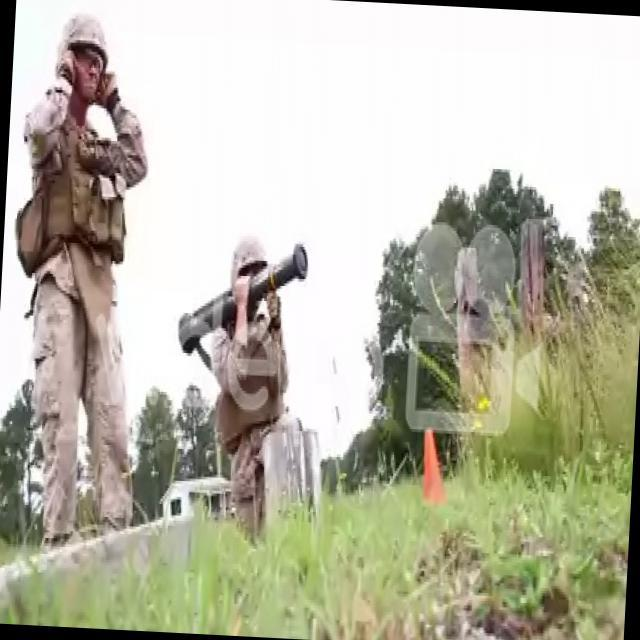rocket: (176, 238, 311, 367)
